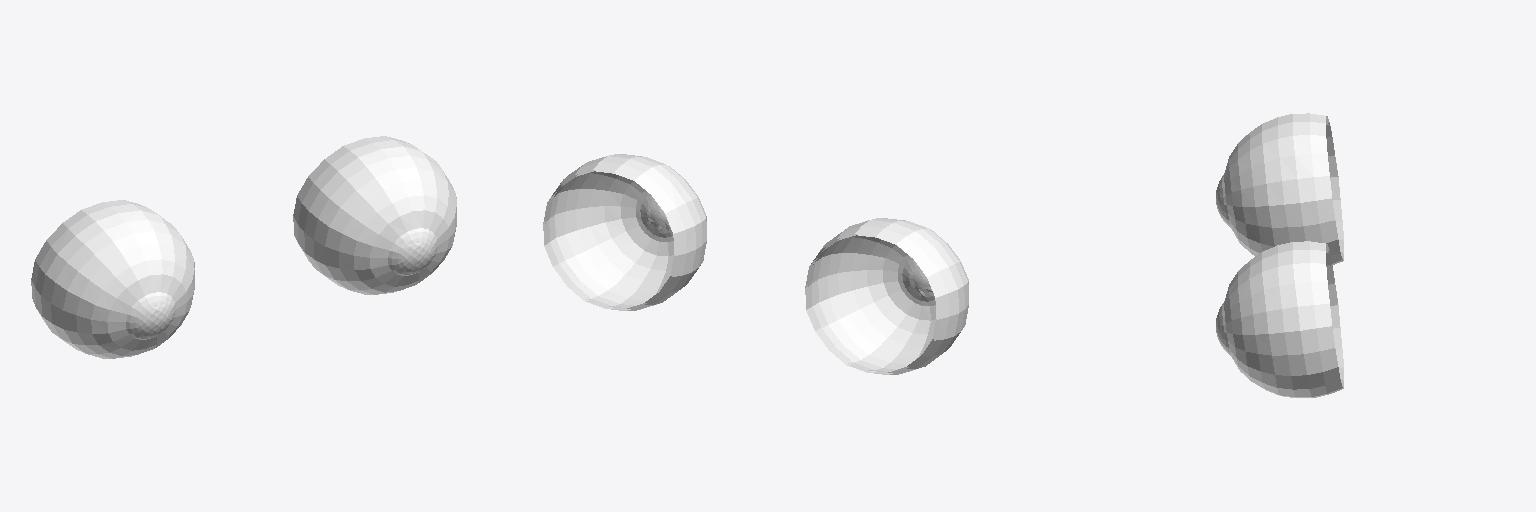
Rendered from doc_eyes.obj.
3 renders of one model, left to right at view 1: azimuth 30°, elevation 25°; view 2: azimuth 150°, elevation 25°; view 3: azimuth 270°, elevation 25°, orthographic.
Visible parts, largest first — view 1: high_poly_obj; view 2: high_poly_obj; view 3: high_poly_obj.
Boxes of the visible parts, box(x1,y1,x2,y2) form: high_poly_obj: box(31, 136, 456, 358); high_poly_obj: box(543, 154, 968, 374); high_poly_obj: box(1216, 113, 1343, 397).
Size of the model in its own units: 6.59 by 2.18 by 1.81.